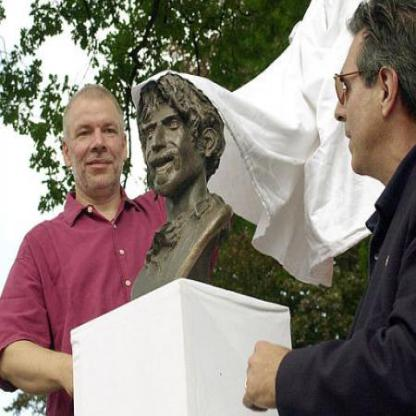face: (68, 87, 125, 196)
